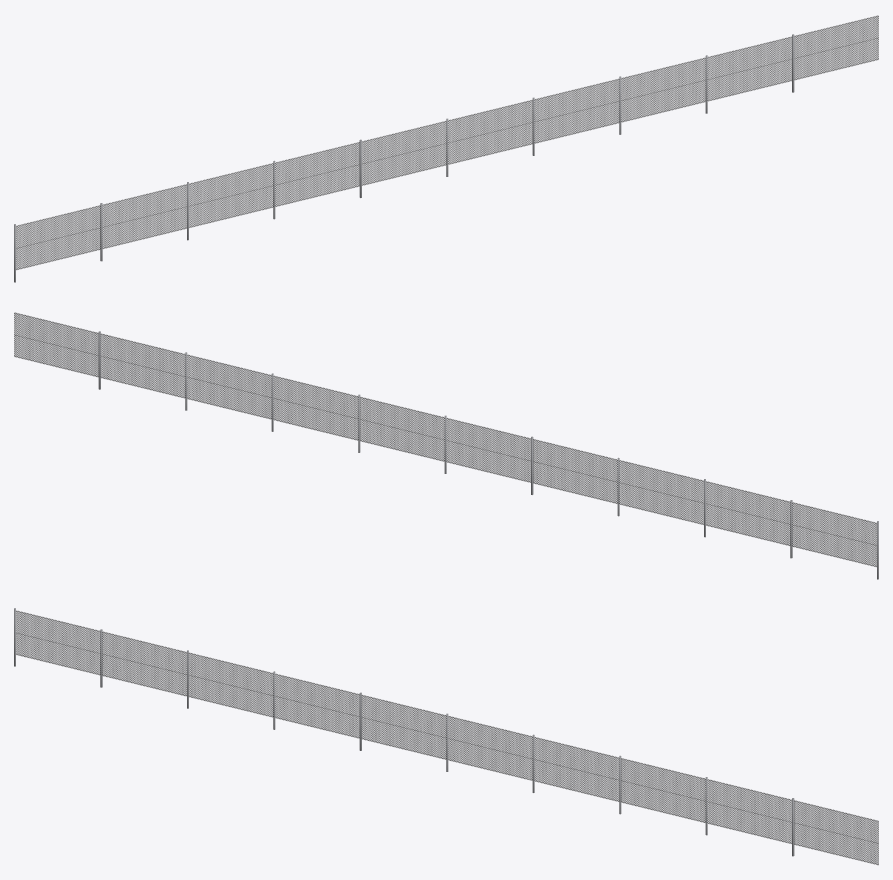
The model's file is fence-tall-chainlink-10s-cbj_LOD01.gltf.
3 renders of one model, top to bottom at view 1: azimuth 30°, elevation 25°; view 2: azimuth 150°, elevation 25°; view 3: azimuth 330°, elevation 25°, orthographic.
Visible parts, largest first — view 1: Cube01; view 2: Cube01; view 3: Cube01.
Part boxes in pixels (left/top/right/bottom): Cube01: left=14, top=15, right=878, bottom=282; Cube01: left=14, top=312, right=878, bottom=579; Cube01: left=14, top=608, right=878, bottom=864.
Bounding box in the file's own units: 36.61 × 2.33 × 0.08.
